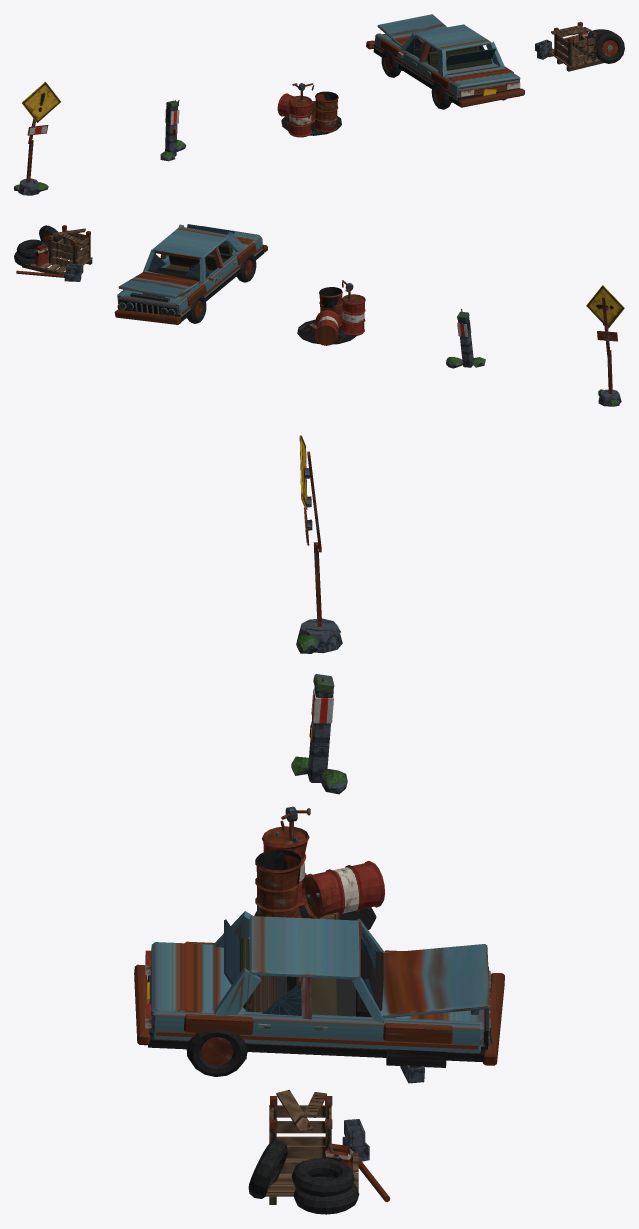
File: ForestProps_Pack3_Roadside.glb
3 renders of one model, top to bottom at view 1: azimuth 30°, elevation 25°; view 2: azimuth 150°, elevation 25°; view 3: azimuth 270°, elevation 25°, orthographic. The views are drawn at different scales.
Parts seen in each view (by area): view 1: Prop_CarWreck_Rusted, Prop_ScrapTires_Pallet, Prop_RustedBarrels, Prop_WarningSign_Rusted, Prop_RoadMarker_Post; view 2: Prop_CarWreck_Rusted, Prop_ScrapTires_Pallet, Prop_RustedBarrels, Prop_WarningSign_Rusted, Prop_RoadMarker_Post; view 3: Prop_CarWreck_Rusted, Prop_ScrapTires_Pallet, Prop_RustedBarrels, Prop_RoadMarker_Post, Prop_WarningSign_Rusted.
Part boxes in pixels (left/top/right/bottom): Prop_CarWreck_Rusted: left=366, top=14, right=524, bottom=109; Prop_ScrapTires_Pallet: left=535, top=22, right=624, bottom=71; Prop_RustedBarrels: left=277, top=83, right=341, bottom=137; Prop_WarningSign_Rusted: left=14, top=81, right=60, bottom=195; Prop_RoadMarker_Post: left=160, top=100, right=186, bottom=161; Prop_CarWreck_Rusted: left=114, top=224, right=267, bottom=324; Prop_ScrapTires_Pallet: left=14, top=225, right=92, bottom=281; Prop_RustedBarrels: left=297, top=280, right=365, bottom=345; Prop_WarningSign_Rusted: left=586, top=285, right=624, bottom=406; Prop_RoadMarker_Post: left=446, top=308, right=485, bottom=368; Prop_CarWreck_Rusted: left=134, top=911, right=504, bottom=1083; Prop_ScrapTires_Pallet: left=248, top=1090, right=390, bottom=1214; Prop_RustedBarrels: left=254, top=806, right=384, bottom=929; Prop_RoadMarker_Post: left=291, top=674, right=347, bottom=794; Prop_WarningSign_Rusted: left=296, top=435, right=342, bottom=653.
Size of the model in its own units: 17.66 by 3.09 by 4.72.
Materials: 1 (1 with a texture image).
